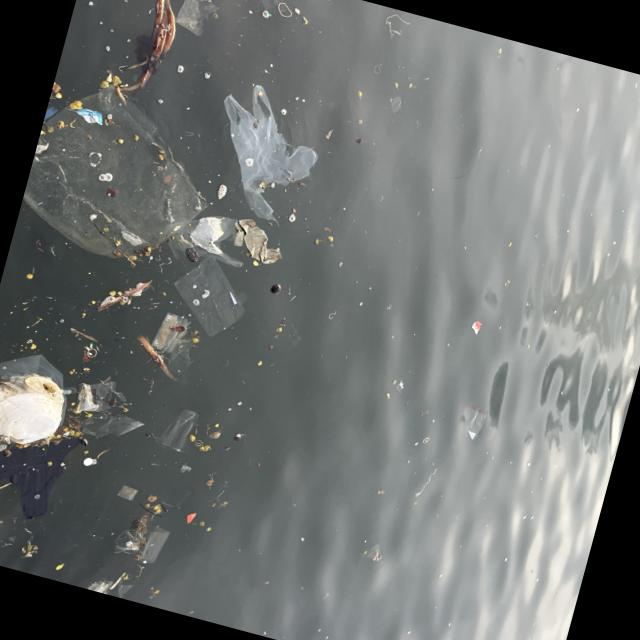foam: (1, 377, 64, 463)
plastic bag: (17, 79, 202, 261), (224, 84, 318, 218), (169, 213, 261, 270)
